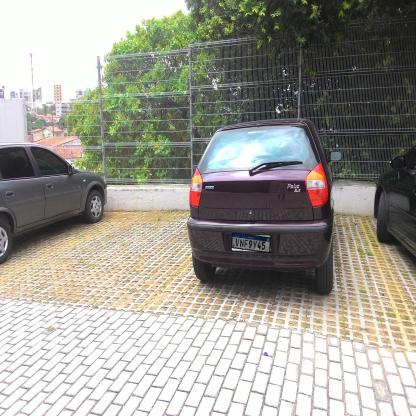PlacaM: (231, 233, 271, 253)
